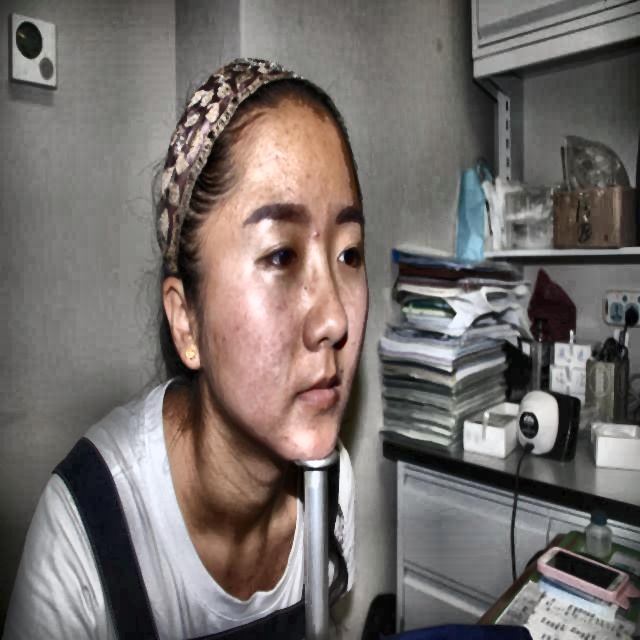comedone: (210, 320, 228, 354), (310, 222, 322, 242)
